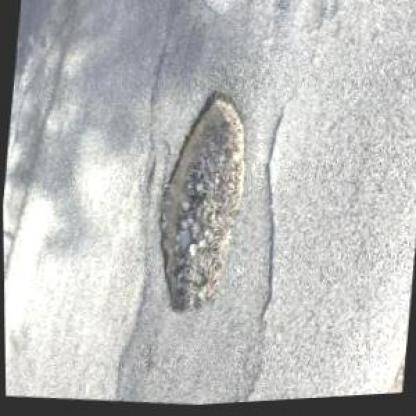pothole: (141, 80, 254, 322)
